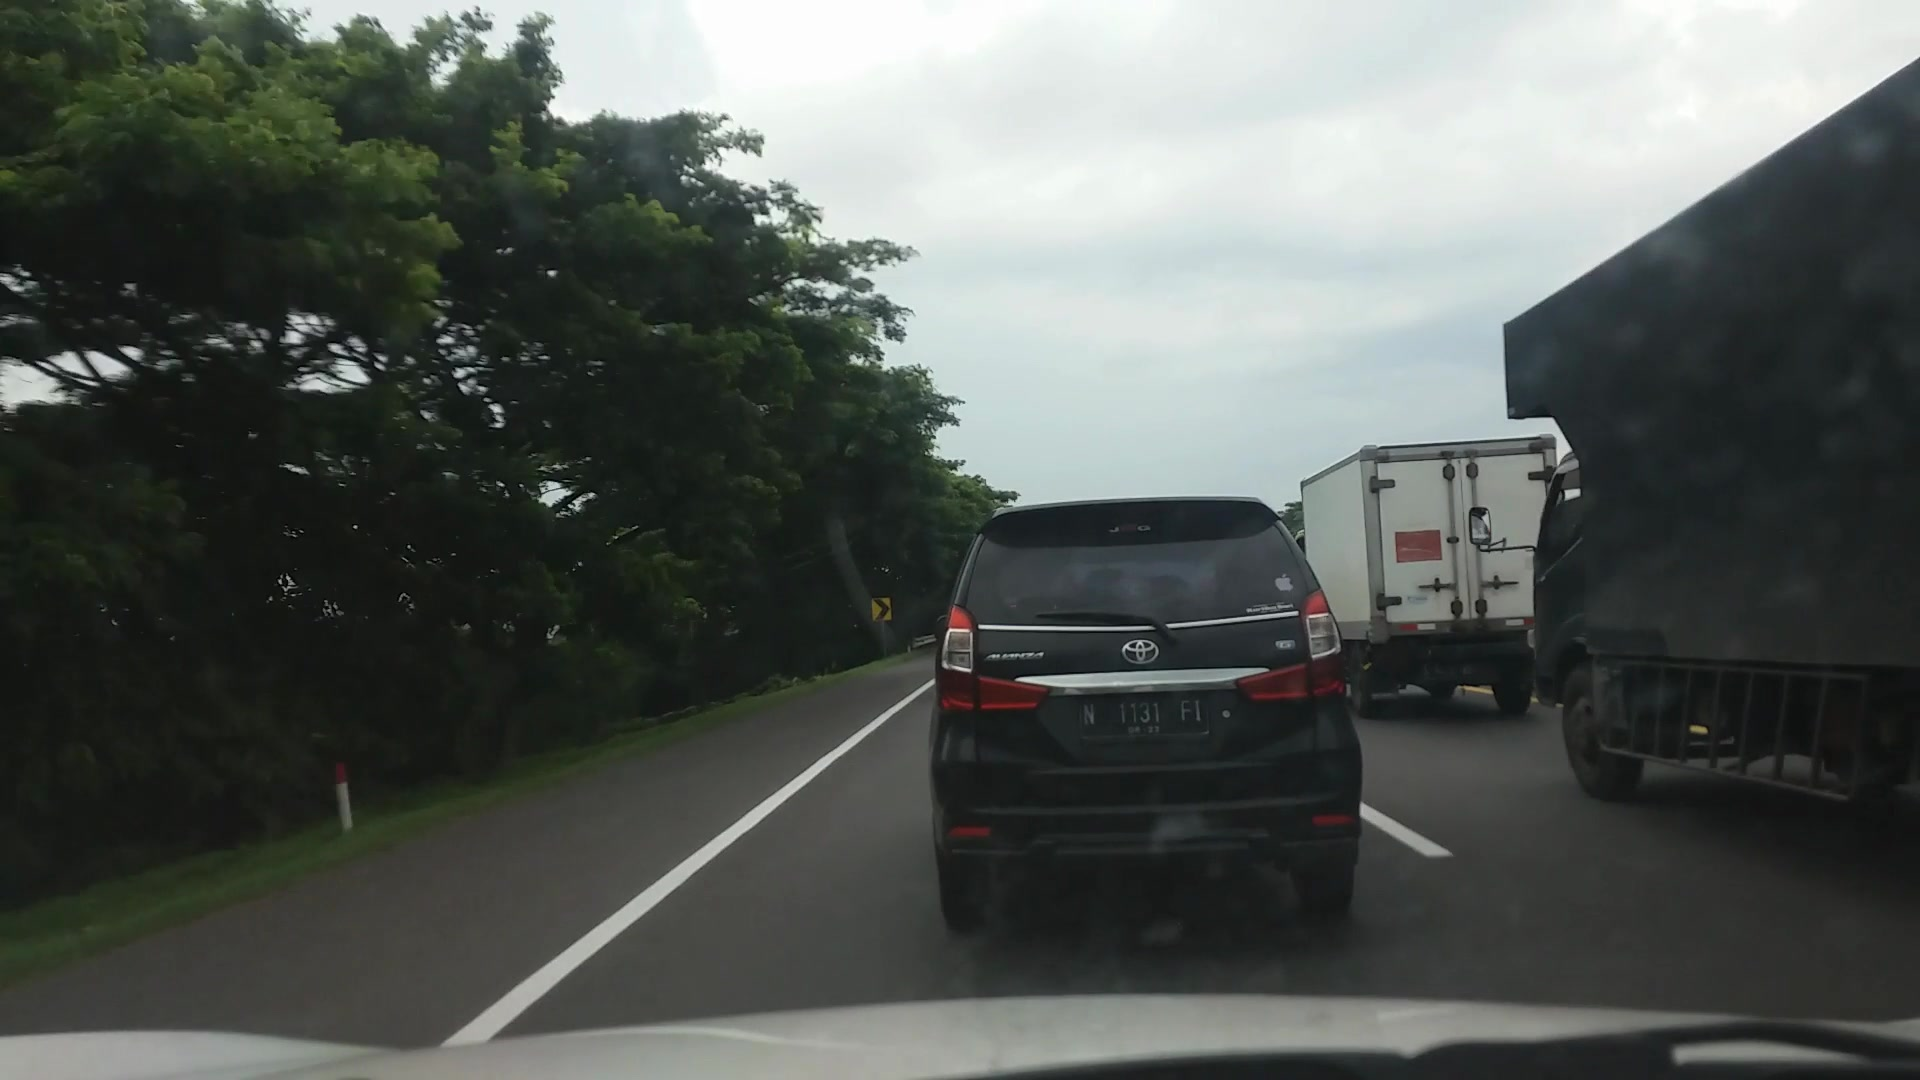plate_positive: (1077, 692, 1207, 736)
